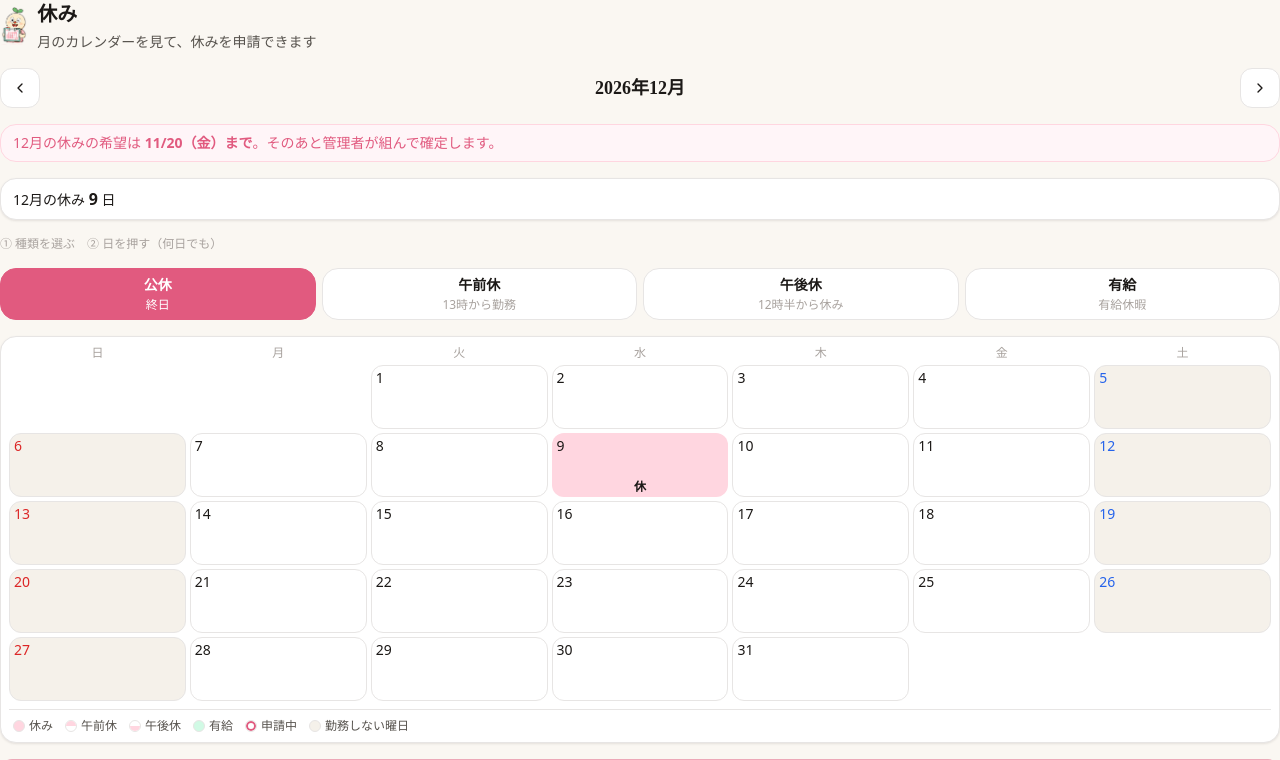
Test: MobileLeavePage — 申請中・承認済み・結果 › 承認済みの日を押すと「管理者へ相談」の案内だけ出す
Click the button "9 休". click: click(640, 465)
box: [552,433,728,497]
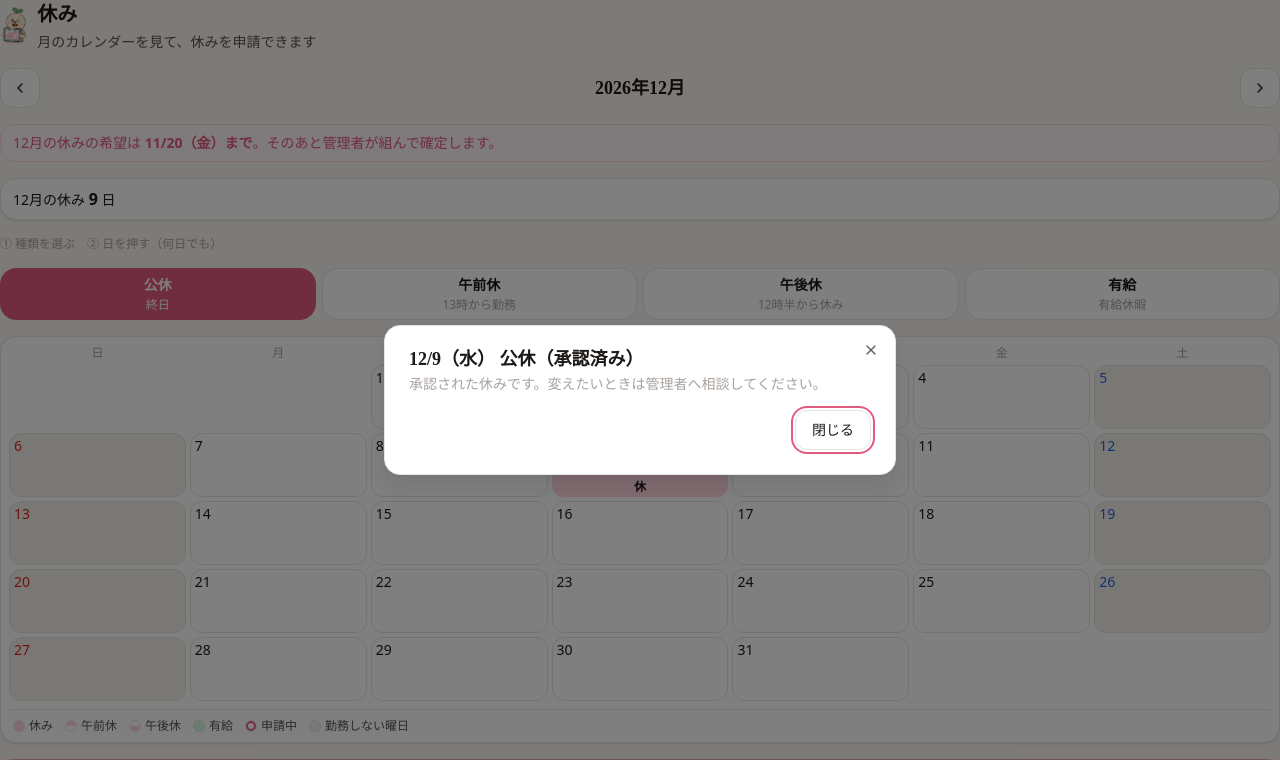
Check: the text "承認された休みです。変えたいときは管理者へ相談してください。" is shown, box [409,374,871,394]
